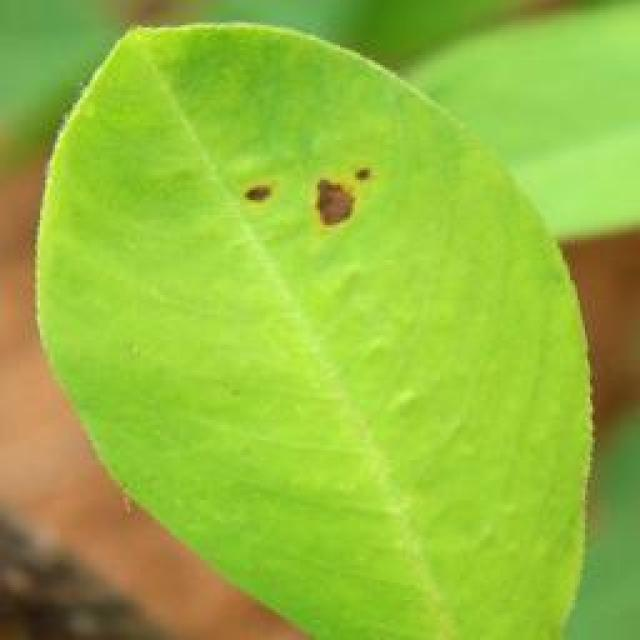Sigatoka: (220, 152, 400, 248)
